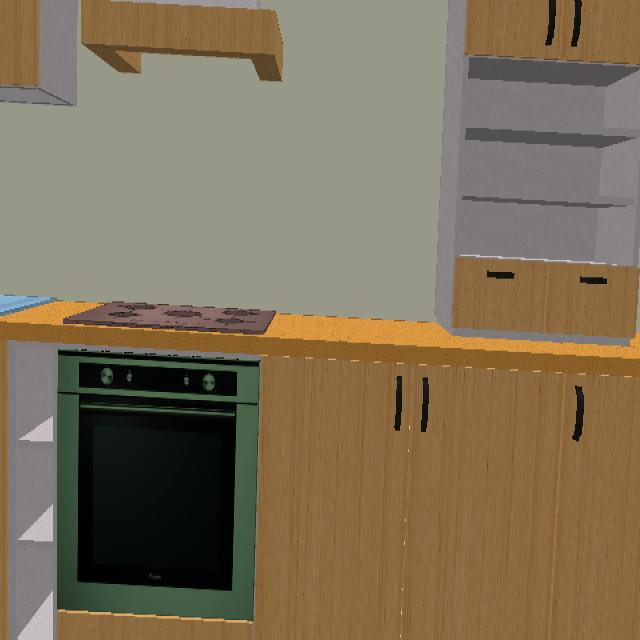cabinet: (254, 358, 639, 638), (9, 342, 58, 638)
countertop: (0, 302, 640, 376)
oven: (58, 350, 260, 621)
stove: (64, 302, 274, 334)
